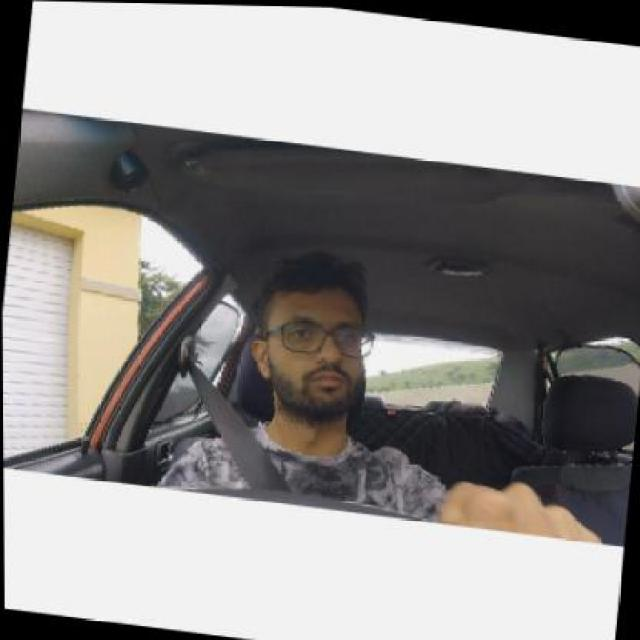person: (240, 258, 387, 439)
